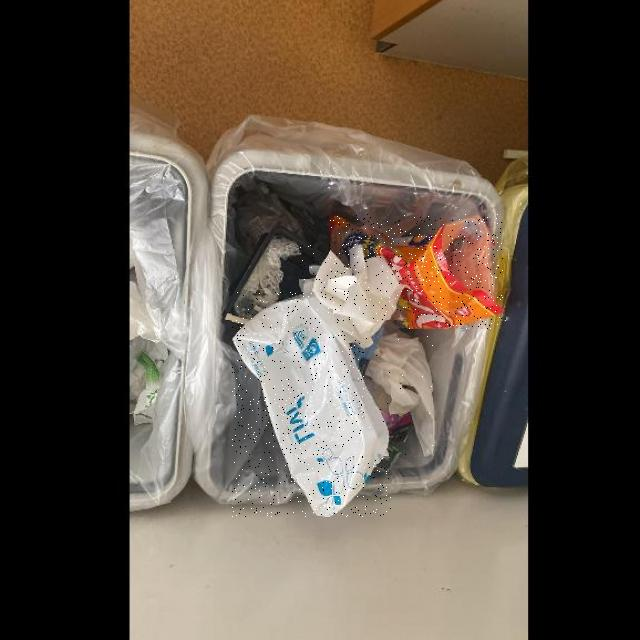paper: (300, 243, 406, 348), (365, 320, 436, 456)
wrapper: (232, 292, 391, 516), (329, 214, 503, 329)
